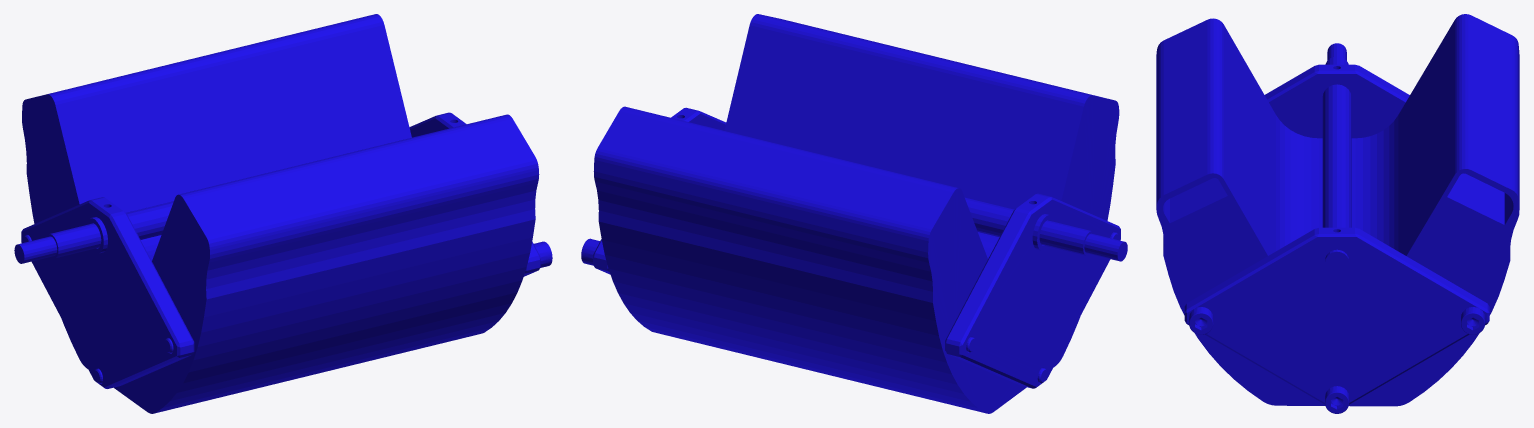
Rendered from irm_1.dae.
The picture shows the model from 3 angles, left to right: view 1: azimuth 30°, elevation 25°; view 2: azimuth 150°, elevation 25°; view 3: azimuth 270°, elevation 25°; orthographic projection. The views are drawn at different scales.
Parts seen in each view (by area): view 1: RotaryCounterWeight 1; view 2: RotaryCounterWeight 1; view 3: RotaryCounterWeight 1.
Part boxes in pixels (box(x1,y1,x2,y2)): RotaryCounterWeight 1: box(14, 14, 552, 413); RotaryCounterWeight 1: box(581, 14, 1127, 413); RotaryCounterWeight 1: box(1156, 14, 1519, 413).
Bounding box in the file's own units: 209 × 150 × 108.
